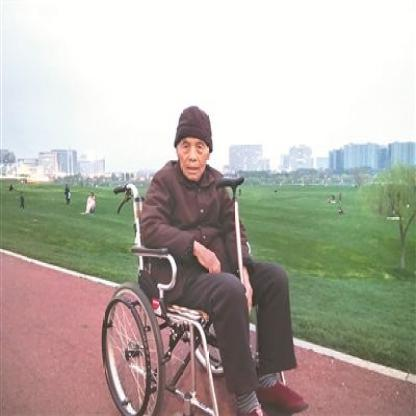wheelchair: (106, 104, 307, 415)
